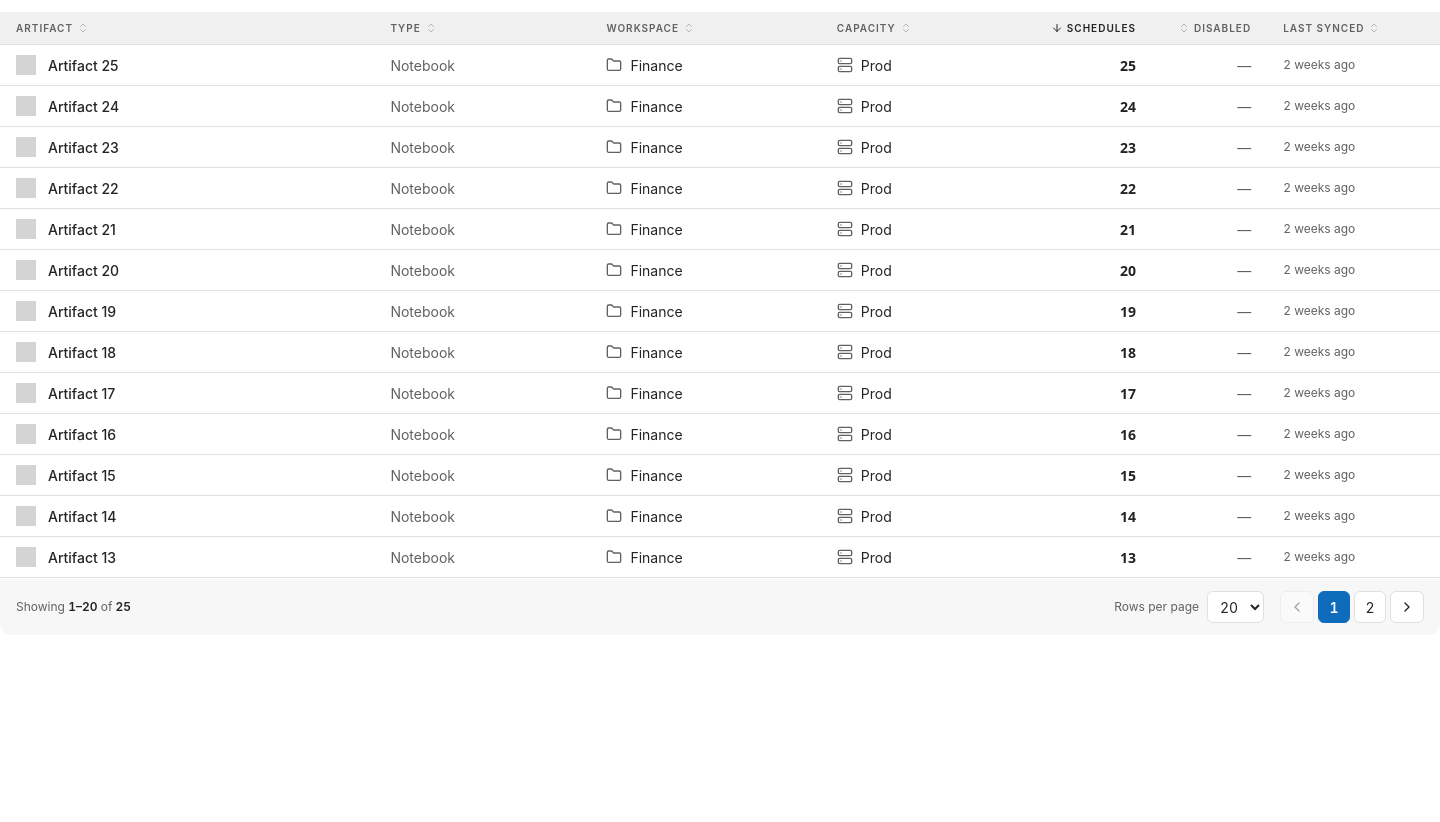
Test case: ArtifactTable › pages forward and changes the page size
This screenshot has width=1440, height=822.
expect the button named "Previous page" is disabled: met, box [1280,591,1314,623]
Click the button named "Page 2" at x=1370, y=607, box [1354,591,1386,623]
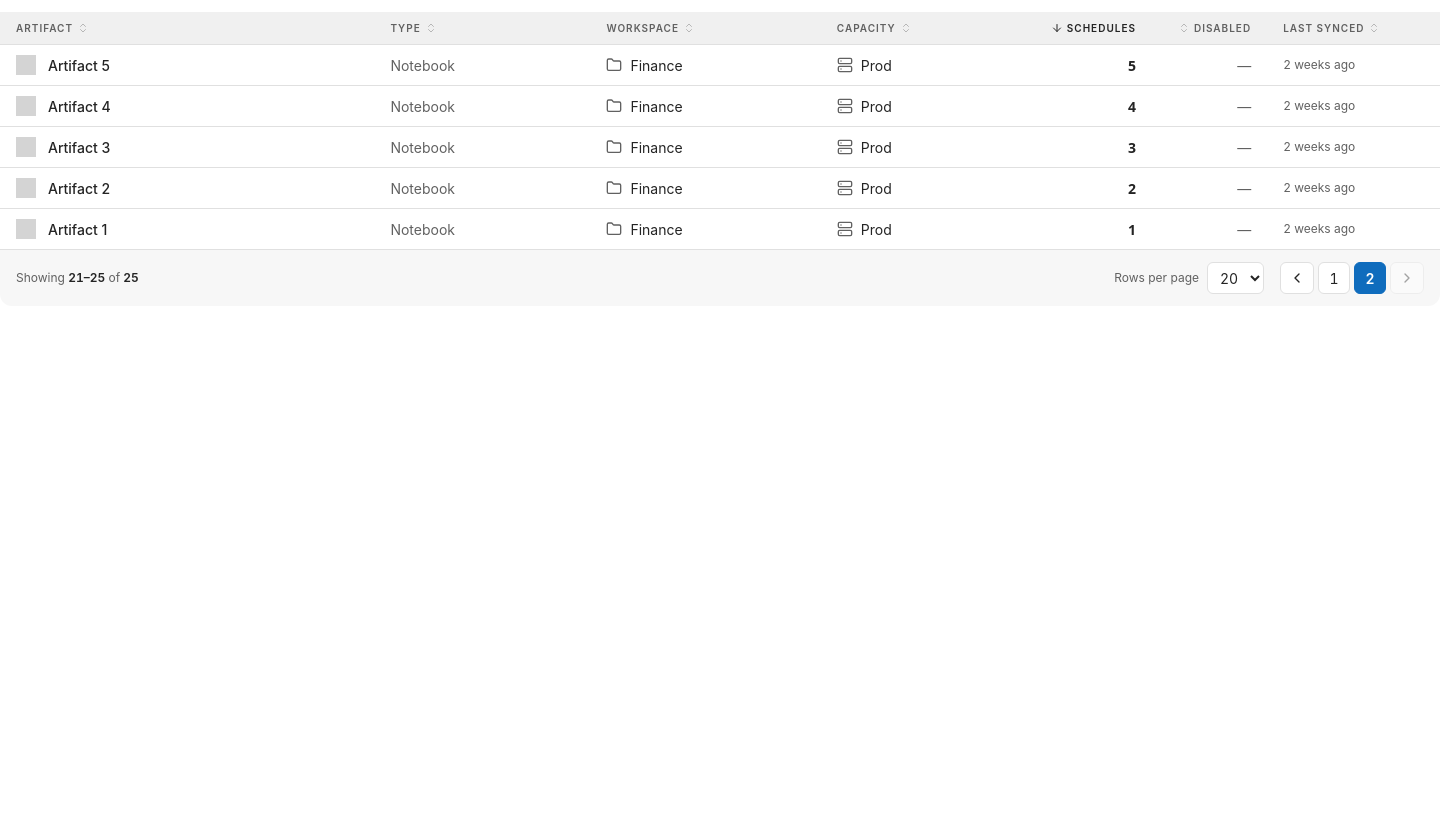
expect the text "Showing 21–25 of 25" is shown: met, box [16,269,139,287]
expect the button named "Next page" is disabled: met, box [1390,262,1424,294]
Select "10" in the dropdown labelled "Rows per page" at x=1236, y=278, box [1207,262,1264,294]
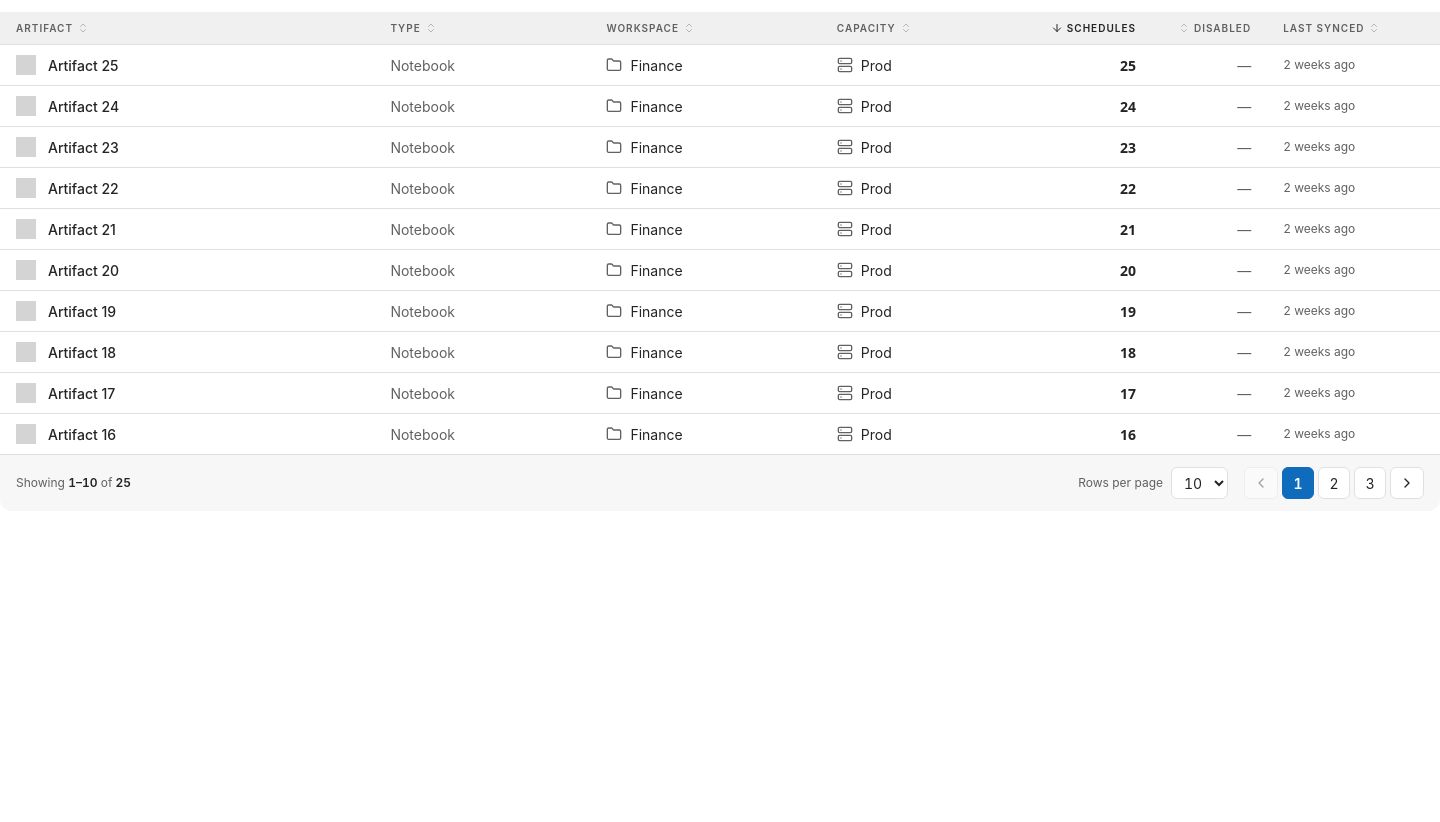
expect the text "Showing 1–10 of 25" is shown: met, box [16,474,131,492]
expect the button named "Page 3" is shown: met, box [1354,467,1386,499]
